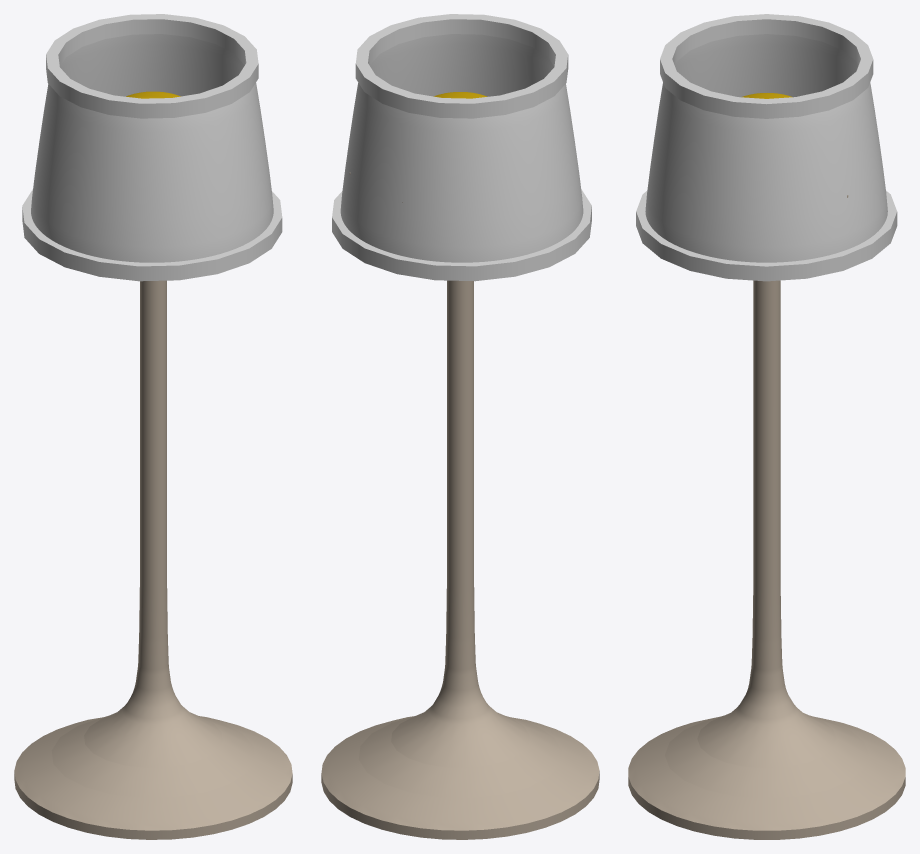
Rendered from LampeSalon1_1.fbx.
The picture shows the model from 3 angles, left to right: view 1: azimuth 30°, elevation 25°; view 2: azimuth 150°, elevation 25°; view 3: azimuth 270°, elevation 25°; orthographic projection.
Visible parts, largest first — view 1: pPipe203, pCylinder1745, pPipe202, pPipe204; view 2: pPipe203, pCylinder1745, pPipe202, pPipe204; view 3: pPipe203, pCylinder1745, pPipe202, pPipe204.
Boxes of the visible parts, left/top/right/bottom form: pPipe203: left=31, top=34, right=273, bottom=262; pCylinder1745: left=14, top=280, right=292, bottom=839; pPipe202: left=46, top=14, right=258, bottom=118; pPipe204: left=22, top=189, right=282, bottom=281; pPipe203: left=340, top=34, right=583, bottom=262; pCylinder1745: left=321, top=280, right=599, bottom=839; pPipe202: left=355, top=14, right=568, bottom=118; pPipe204: left=332, top=189, right=591, bottom=281; pPipe203: left=645, top=34, right=887, bottom=262; pCylinder1745: left=628, top=280, right=905, bottom=839; pPipe202: left=660, top=14, right=873, bottom=118; pPipe204: left=636, top=190, right=897, bottom=281.
Size of the model in its own units: 30.29 by 87.06 by 30.29.
